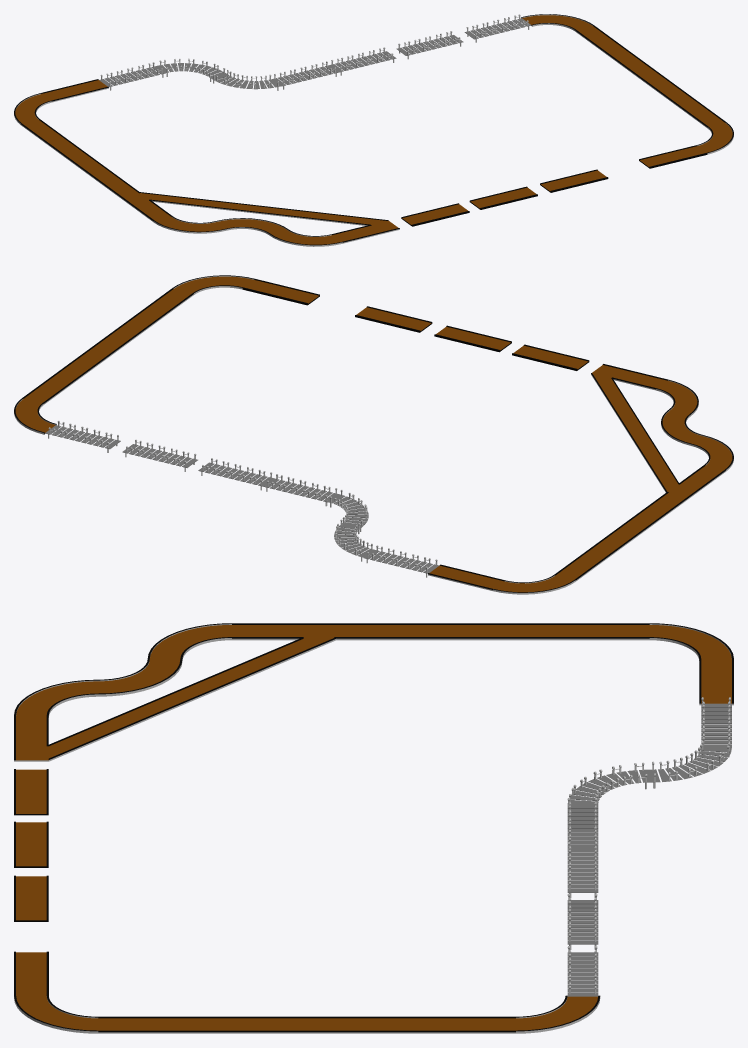
Rendered from Pista.fbx.
The picture shows the model from 3 angles, top to bottom: view 1: azimuth 30°, elevation 25°; view 2: azimuth 150°, elevation 25°; view 3: azimuth 270°, elevation 25°; orthographic projection. The views are drawn at different scales.
Parts seen in each view (by area): view 1: Pista; view 2: Pista; view 3: Pista.
Part boxes in pixels (bbox=[...]): Pista: bbox=[14, 14, 733, 246]; Pista: bbox=[14, 275, 733, 594]; Pista: bbox=[14, 623, 733, 1033].
Size of the model in its own units: 27744 by 479 by 20680.
